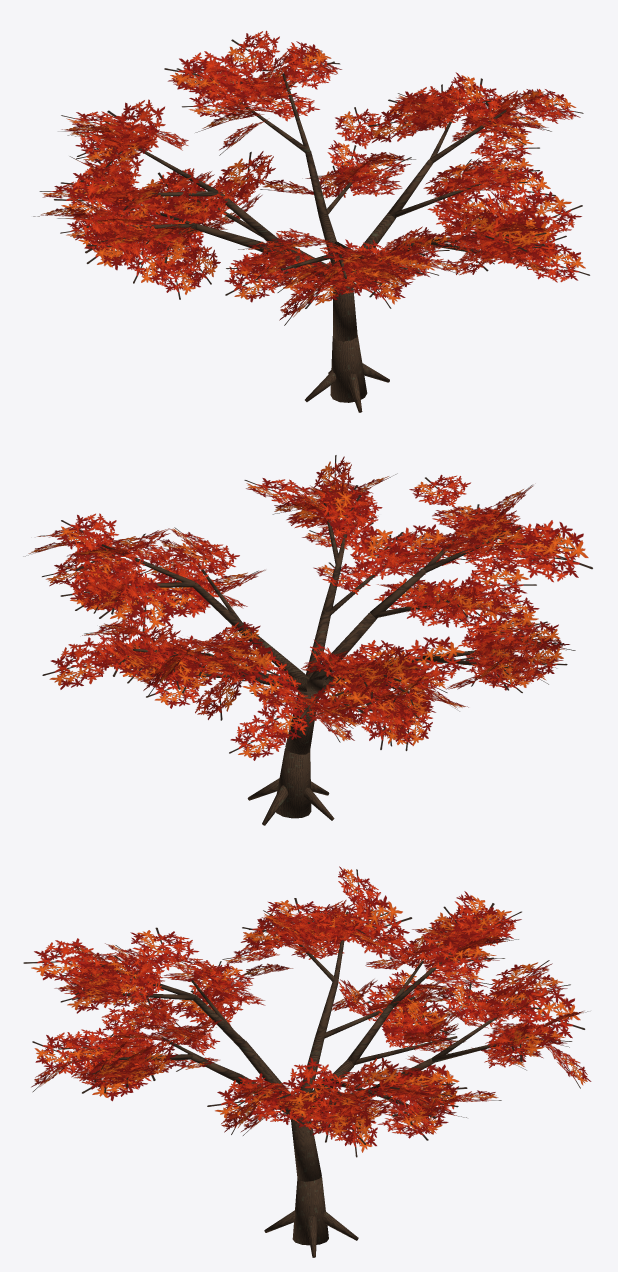
Rendered from tree_maple_red.glb.
3 views of the same model, one above another, from view 1: azimuth 30°, elevation 25°; view 2: azimuth 150°, elevation 25°; view 3: azimuth 270°, elevation 25° (orthographic). The views are drawn at different scales.
Visible parts, largest first — view 1: MapleFoliage, MapleTrunk; view 2: MapleFoliage, MapleTrunk; view 3: MapleFoliage, MapleTrunk.
Part boxes in pixels (x1,y1,x2,y2): MapleFoliage: (33,30,589,325); MapleTrunk: (86,73,514,412); MapleFoliage: (23,455,592,760); MapleTrunk: (101,503,520,825); MapleFoliage: (23,866,591,1157); MapleTrunk: (93,911,528,1257).
Size of the model in its own units: 8.54 by 4.02 by 8.12.
2 materials, 2 textured.
